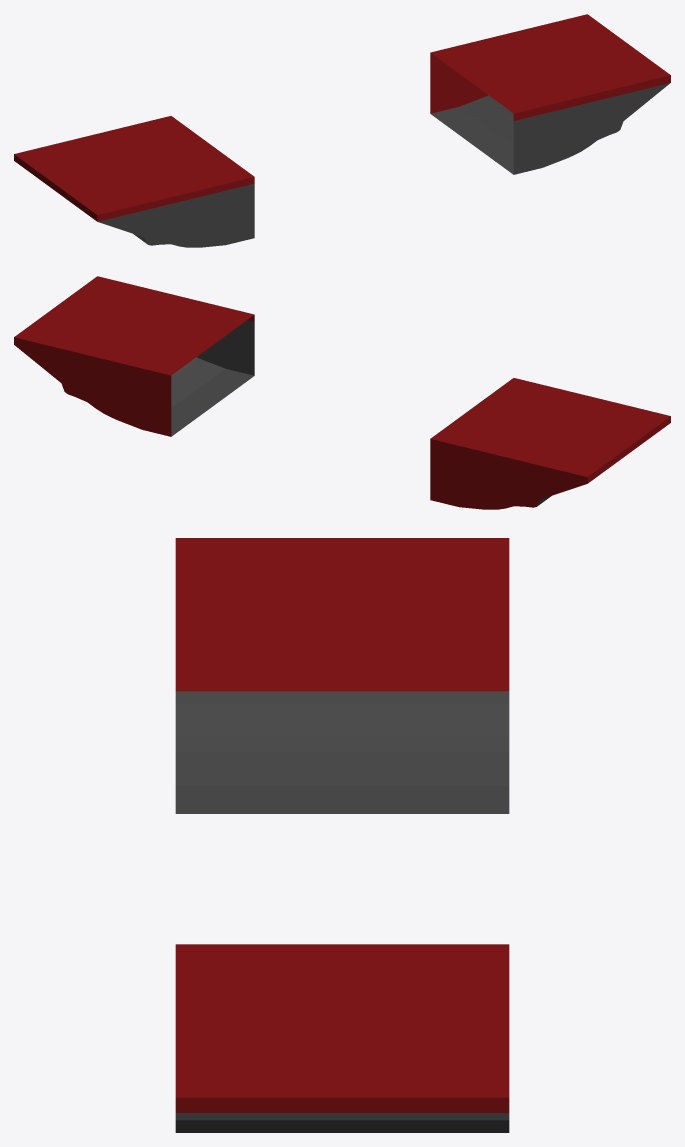
File: vpstage_sides.fbx
3 views of the same model, one above another, from view 1: azimuth 30°, elevation 25°; view 2: azimuth 150°, elevation 25°; view 3: azimuth 270°, elevation 25° (orthographic). The views are drawn at different scales.
Parts seen in each view (by area): view 1: StageSides; view 2: StageSides; view 3: StageSides.
Part boxes in pixels (left/top/right/bottom): StageSides: left=14, top=14, right=670, bottom=247; StageSides: left=14, top=276, right=670, bottom=509; StageSides: left=175, top=538, right=509, bottom=1132.
Size of the model in its own units: 11217 by 1146 by 2826.
